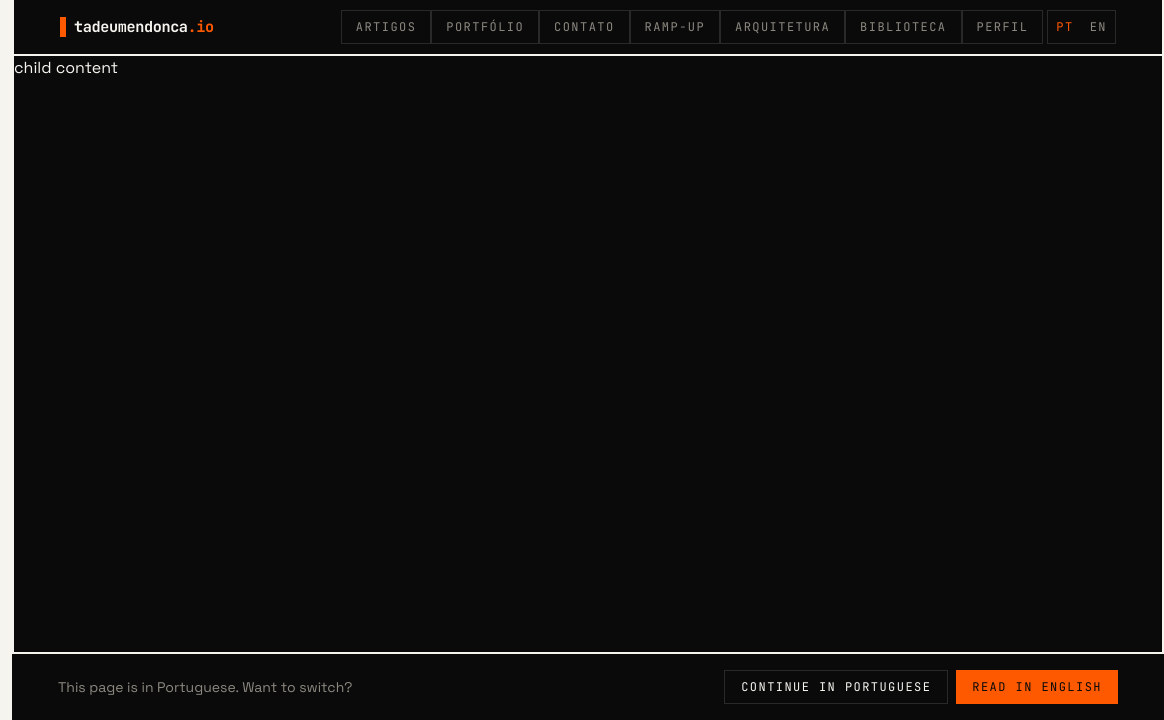
Test: AppShell › switches locale on toggle, persists the choice, and re-renders the nav
Expected: the link "Artigos" is shown, left=341, top=10, right=431, bottom=44
Click the button "EN". click: (1098, 27)
box: left=1082, top=11, right=1115, bottom=43
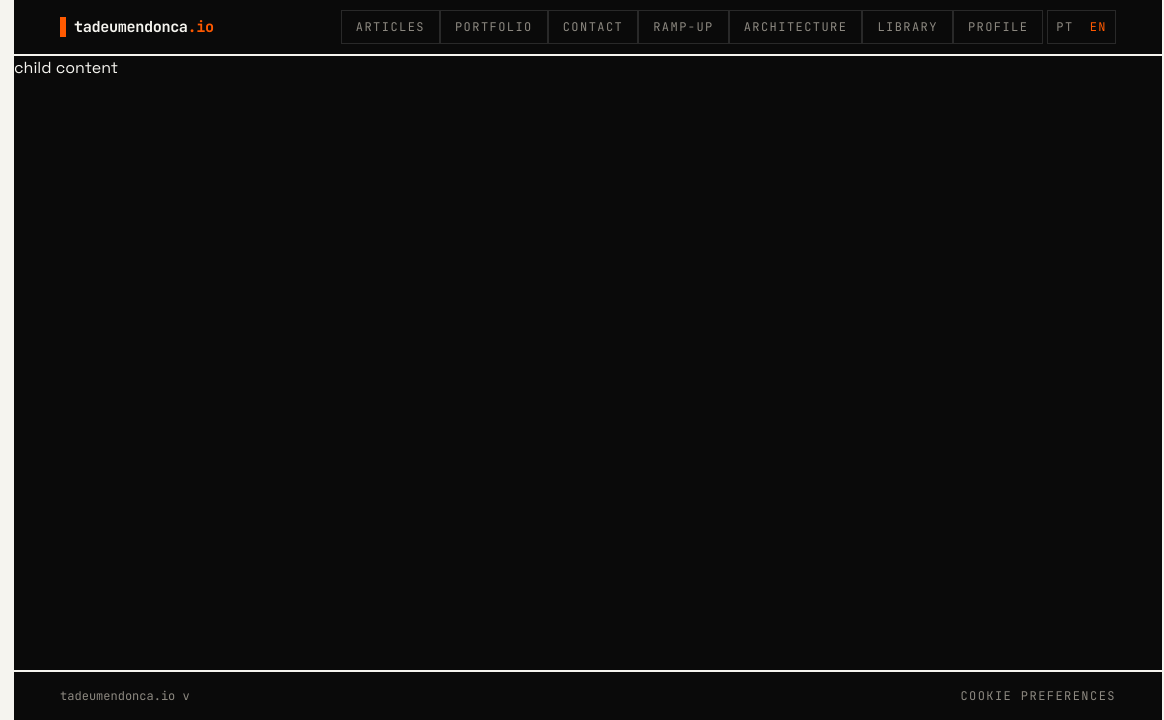
Result: the link "Articles" is shown at left=341, top=10, right=440, bottom=44
Result: the link "Artigos" is gone
